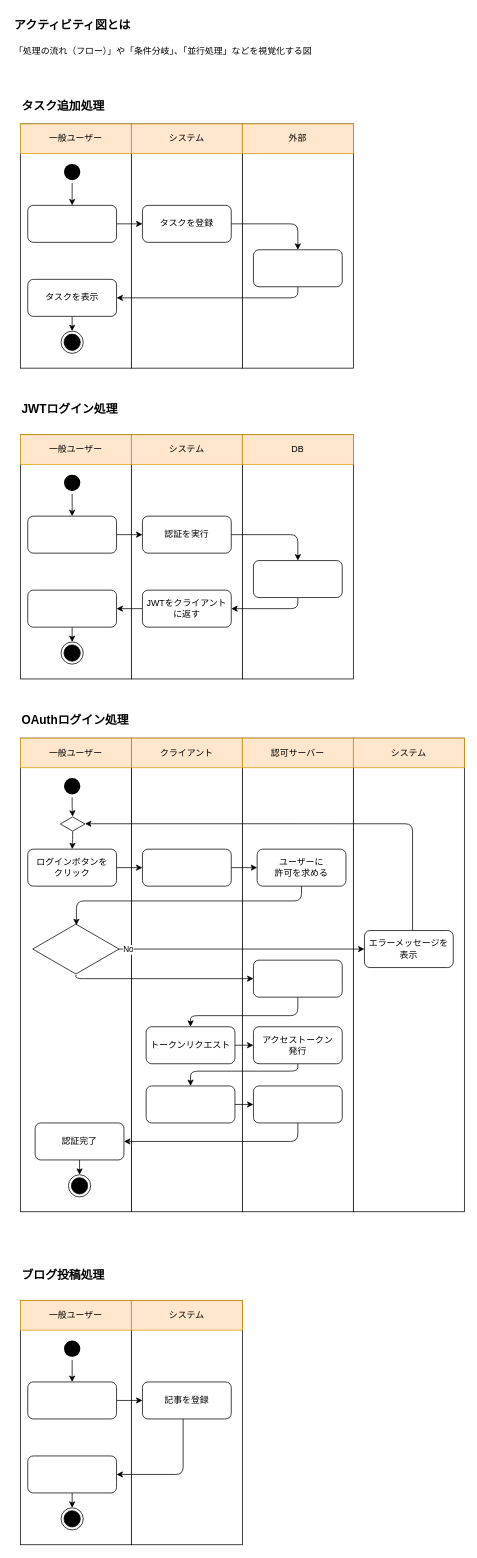
This 477x1558 diagram has some shape labels left out. The centre of each missing label's shape, as x and y in pixels:
"JWTを発行" goes at (297,579).
"JWT認証" goes at (72,608).
"タスク情報を入力" goes at (72,223).
"ユーザー Slackに通知する" goes at (297,268).
"ユーザーID・ パスワードを入力" goes at (72,534).
"リソース提供" goes at (297,1104).
"リソース要求" goes at (190,1104).
"リダイレクト （認可コード付き）" goes at (297,978).
"記事を表示" goes at (72,1474).
"記事情報を入力" goes at (72,1400).
"許可/拒否の選択" goes at (75,948).
"認可リクエスト" goes at (186,867).
